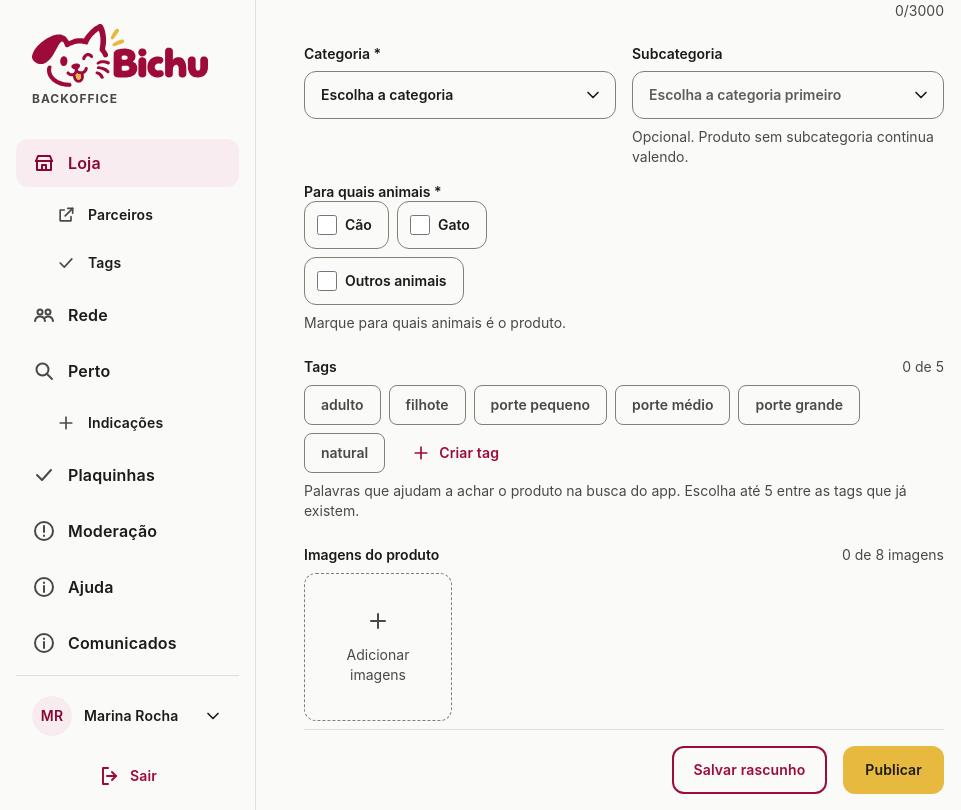
it: 3 · Loja: formulario › tags: ate 5 do vocabulario; a sexta fica inativa
(page scrolled)
Click the button "adulto": (342, 405) [304,385,380,425]
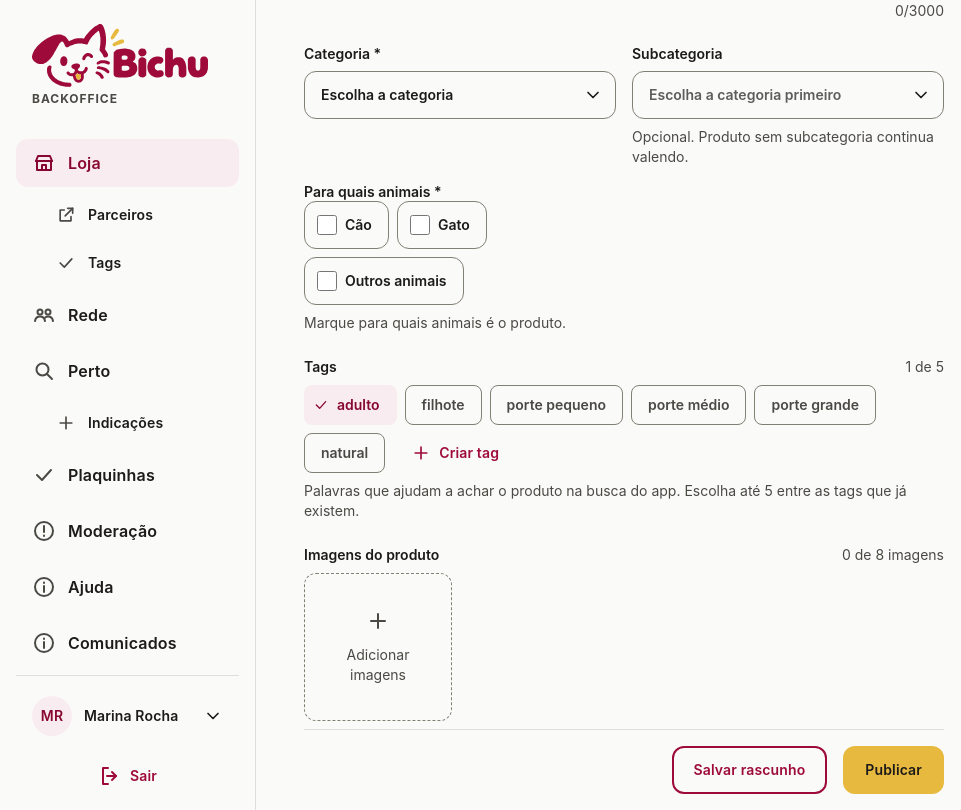
Click the button "filhote": (443, 405) [404,385,482,425]
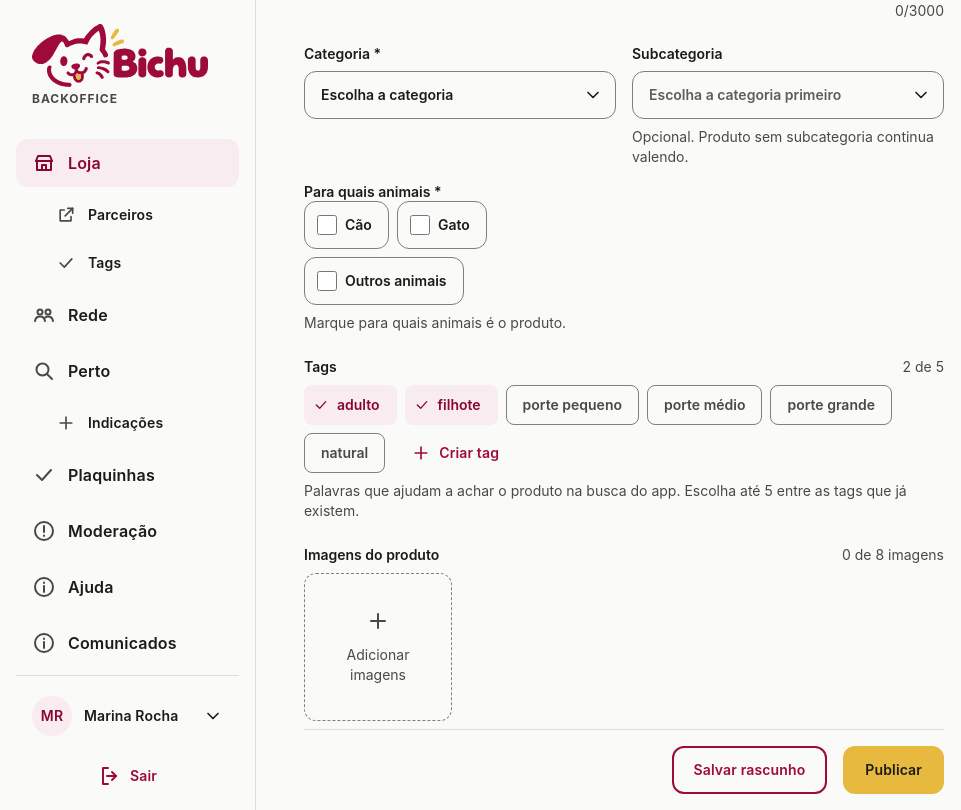
Click the button "porte pequeno": (572, 405) [506,385,639,425]
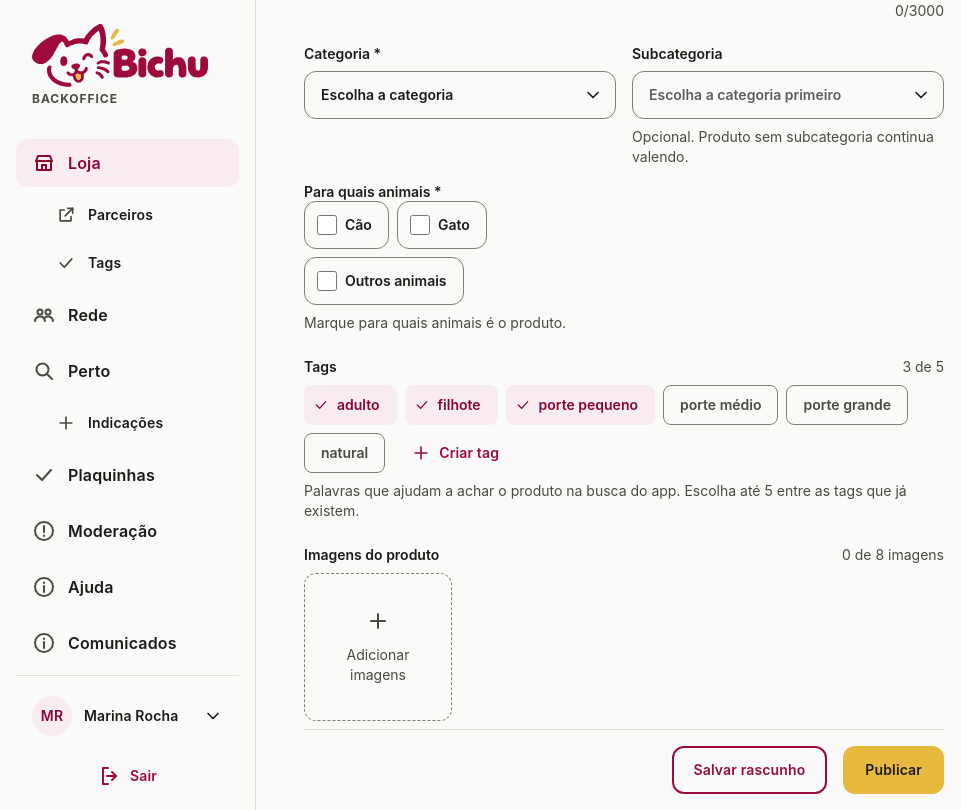
Click the button "porte médio": (721, 405) [663,385,778,425]
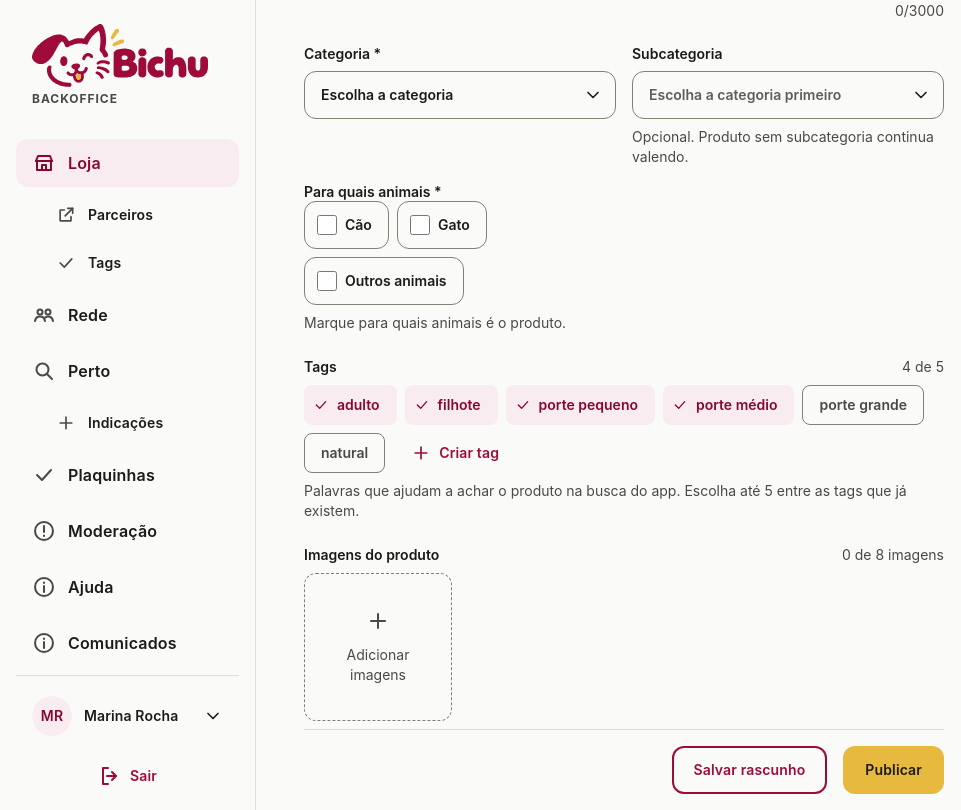
Click the button "porte grande": (863, 405) [802,385,924,425]
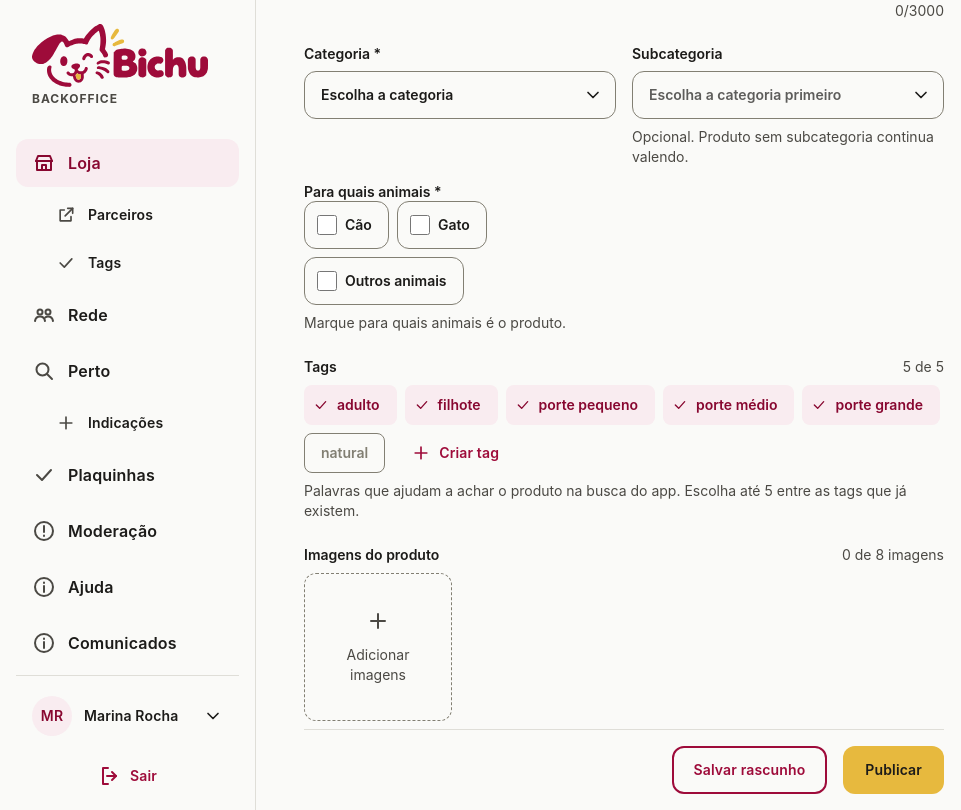
Expected: the text "5 de 5" is shown, [903,357,944,377]
Expected: the button "natural" is disabled, [304,433,385,473]
Click the button "adulto": (350, 405) [304,385,396,425]
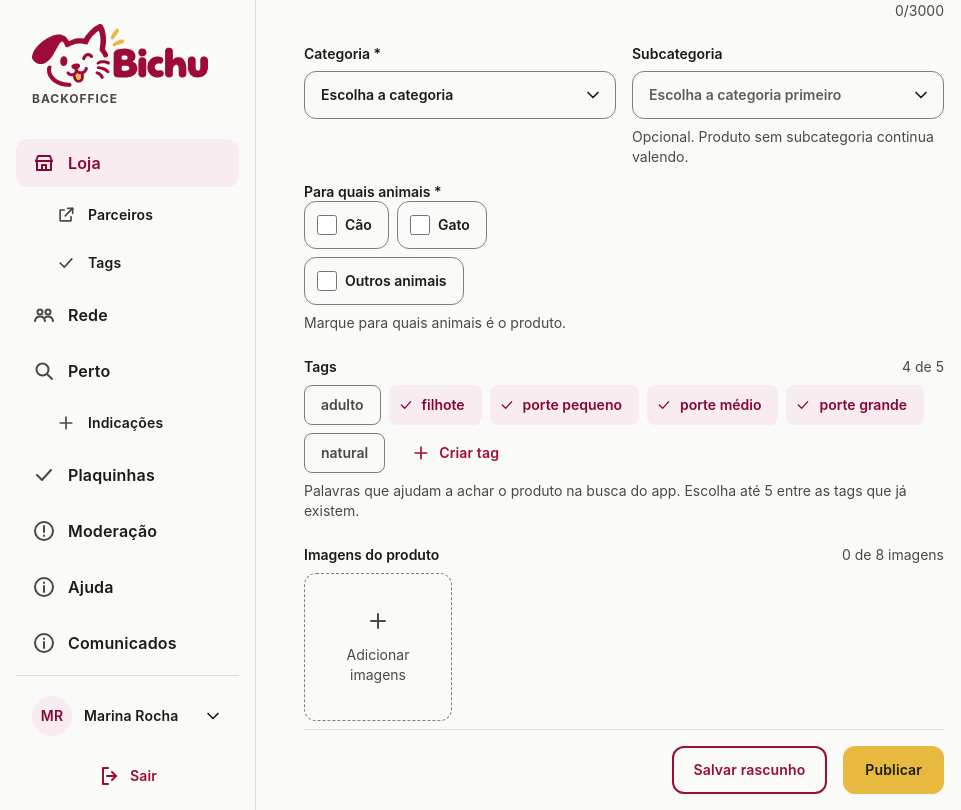
Expected: the button "natural" is enabled, [304,433,385,473]
